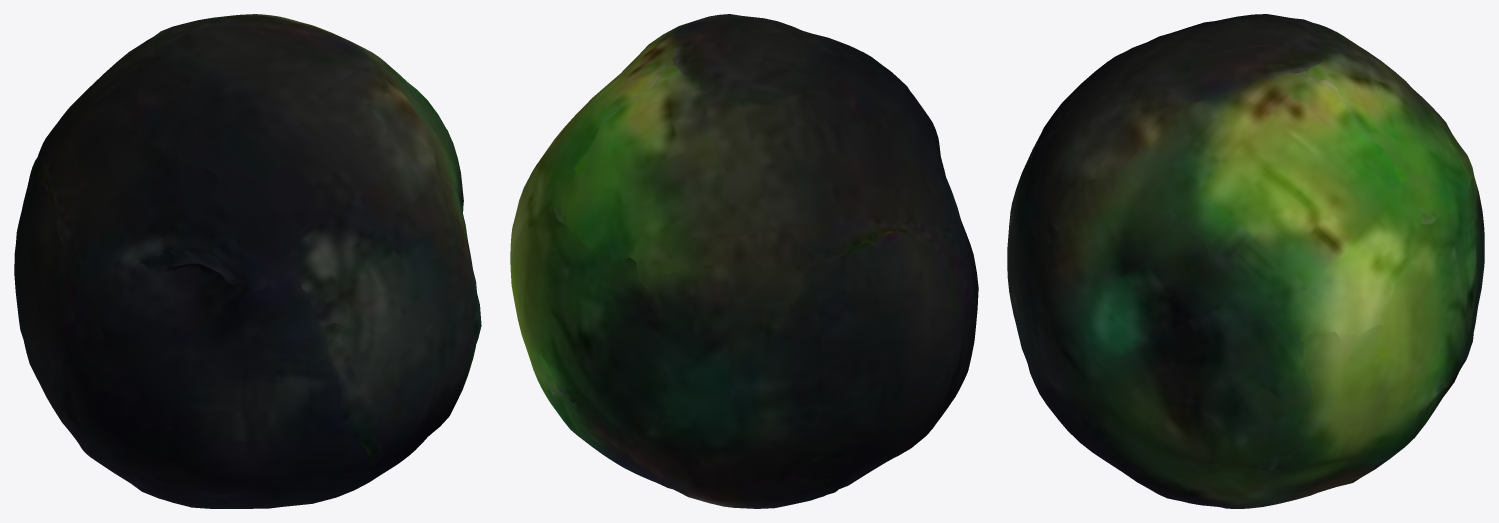
The picture shows the model from 3 angles, left to right: view 1: azimuth 30°, elevation 25°; view 2: azimuth 150°, elevation 25°; view 3: azimuth 270°, elevation 25°; orthographic projection. The views are drawn at different scales.
Parts seen in each view (by area): view 1: world; view 2: world; view 3: world.
Boxes of the visible parts, x1,y1,x2,y2 form: world: (14,14,481,508); world: (510,14,978,508); world: (1007,14,1484,508).
Bounding box in the file's own units: 0.4696 × 0.4802 × 0.4754.
Materials: 1 (1 with a texture image).
